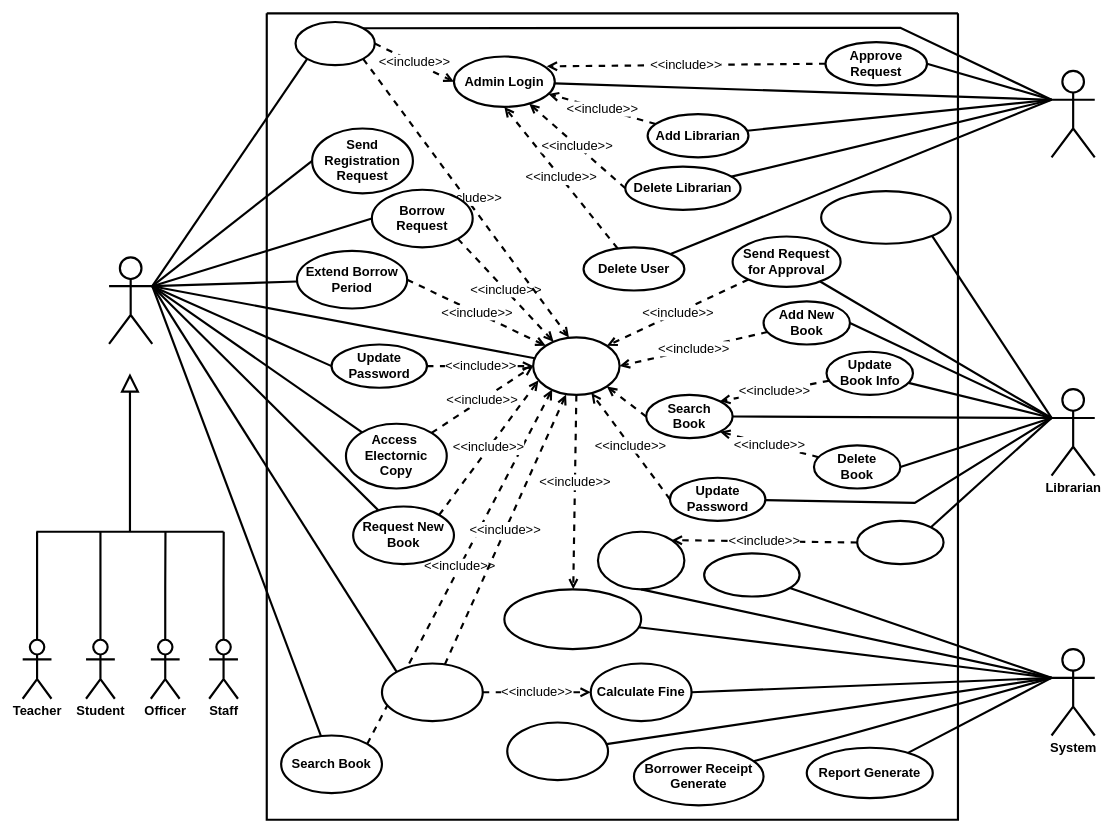
Some shapes in this 1113 by 833 pixel diagram are drawn without their labels. Here are the shapes that lost their labels. From the top down, the box of each, then its label:
(294, 21, 375, 66): Logout
(1050, 69, 1095, 158): Director
(820, 190, 951, 244): Watch New Book Requests
(108, 256, 153, 345): User
(532, 336, 620, 396): Login
(597, 530, 685, 590): Validate Borrow ID
(856, 519, 944, 565): Remove Book
(703, 552, 800, 597): Send Emails
(503, 588, 642, 650): Authenticate User and Librarian
(381, 662, 483, 722): Check Fine
(506, 721, 609, 781): Show Books
